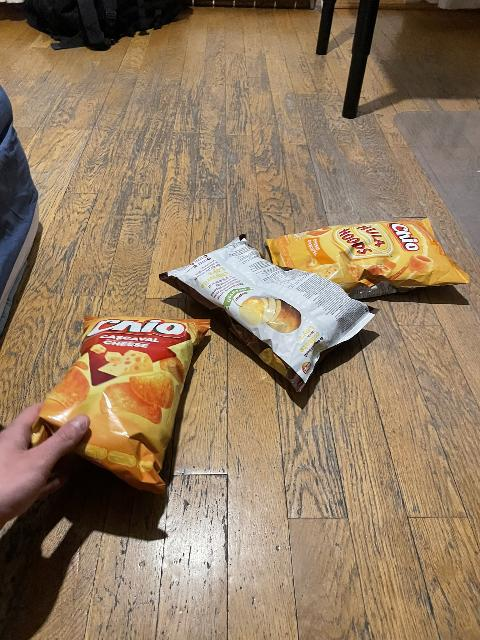Chio Cascaval 125g: (31, 320, 208, 490)
Chio Hula Hoops Cheese 70g: (277, 219, 469, 294)
Lays Beef Grilled Ribs 125g: (161, 235, 369, 387)
